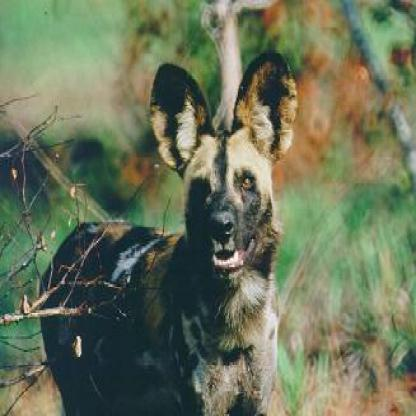African_hunting_dog: (36, 53, 298, 413)
